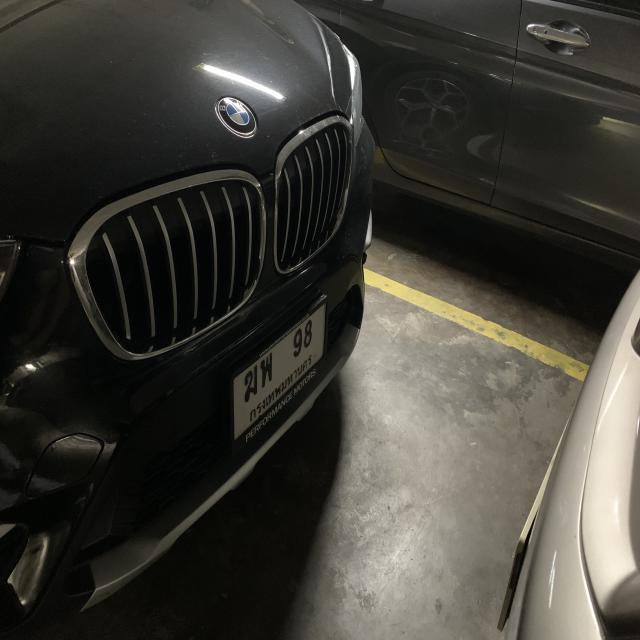license_plate: (228, 291, 331, 459)
